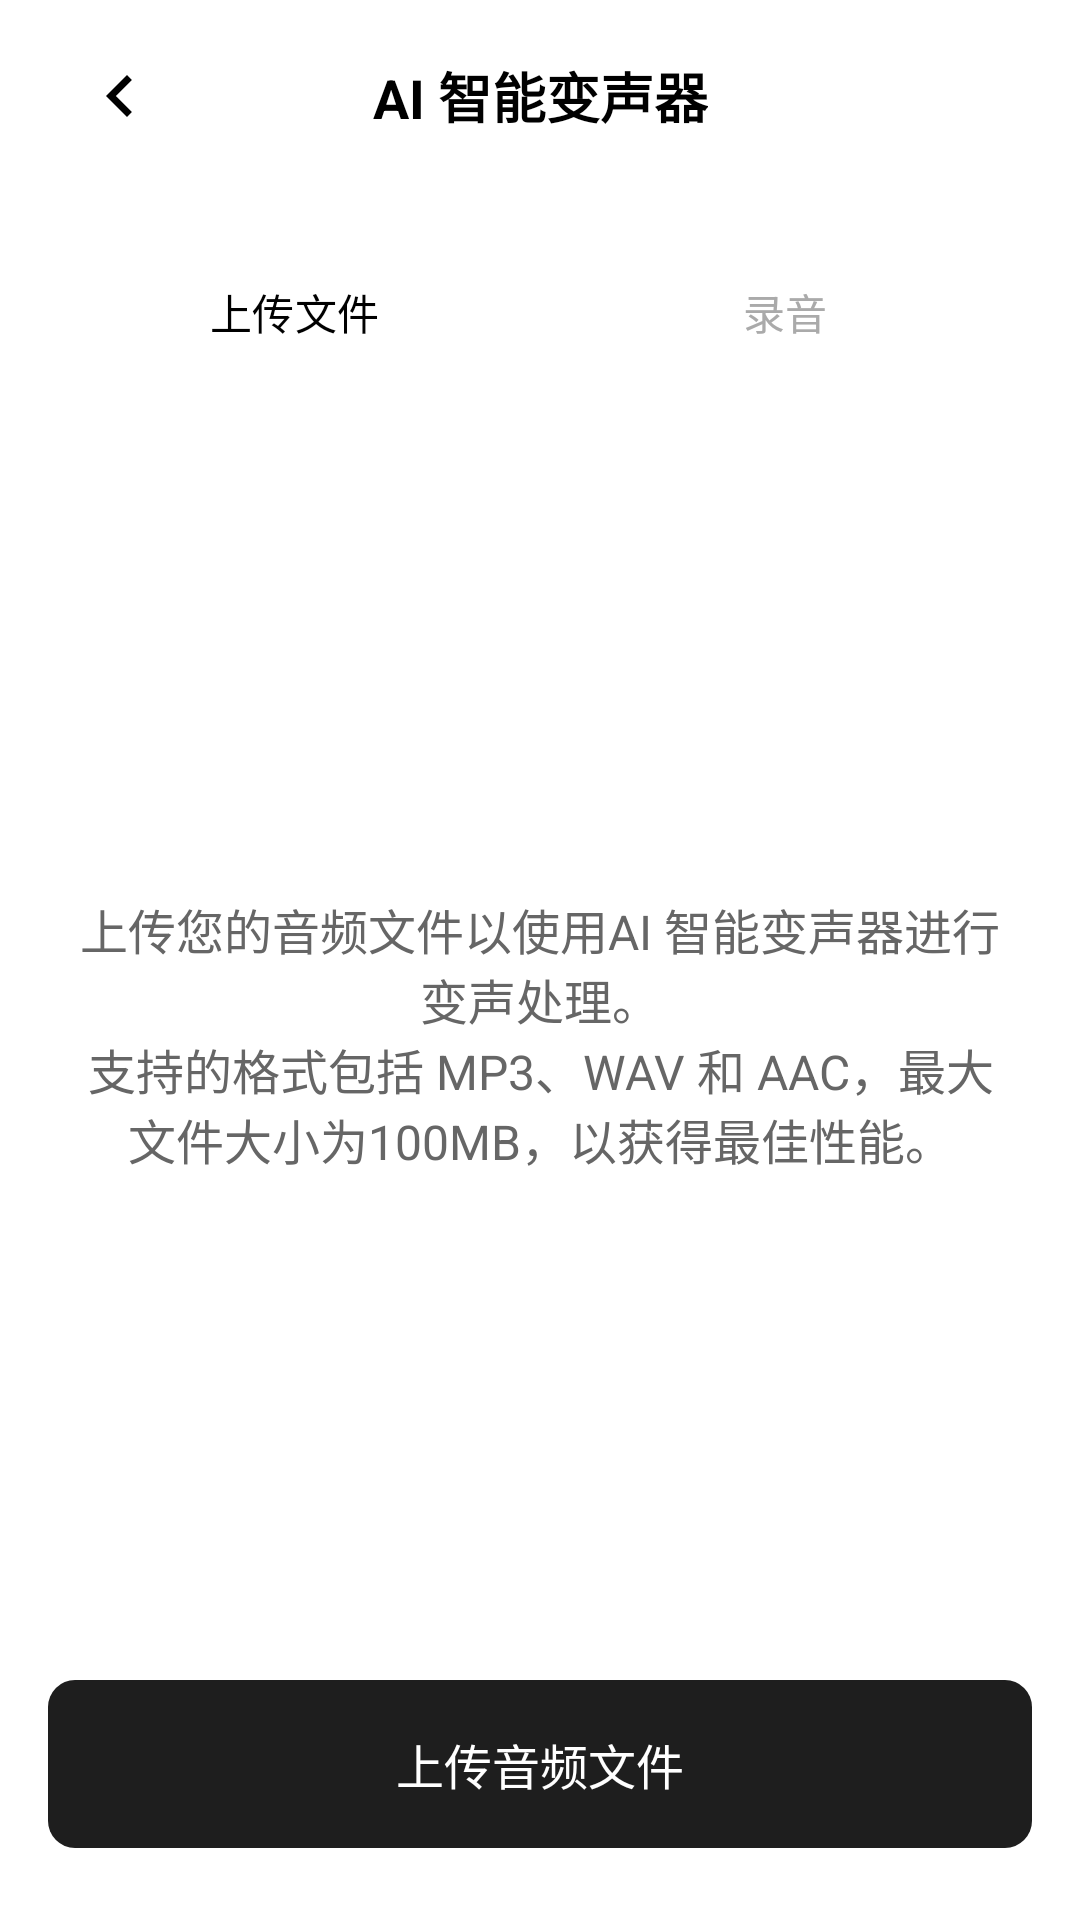

Locate icon controls on the screen. Image size 1080×1920, boxes as (x1, y1, x2, y2).
Back: (106, 75, 132, 117)
